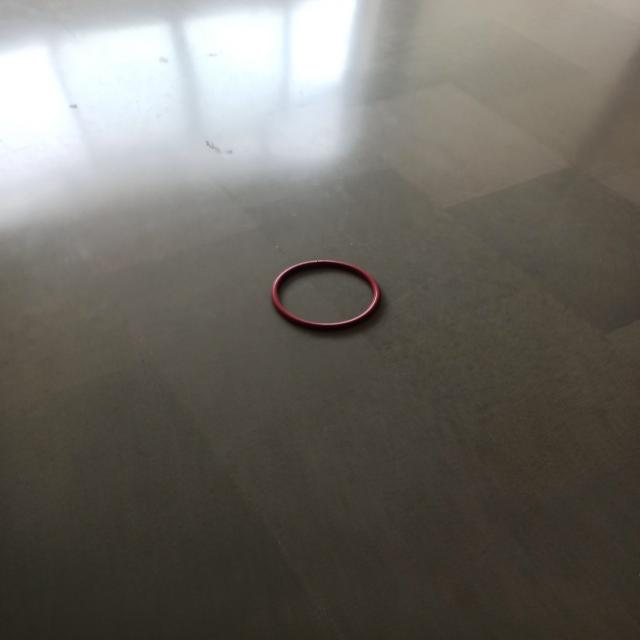daire: (273, 256, 380, 332)
